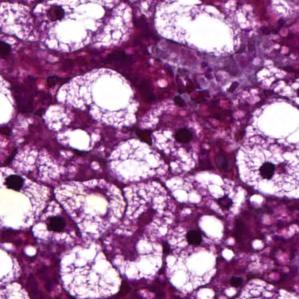ballooning: (234, 97, 299, 202), (54, 66, 140, 133), (50, 176, 128, 244), (31, 0, 124, 55)
